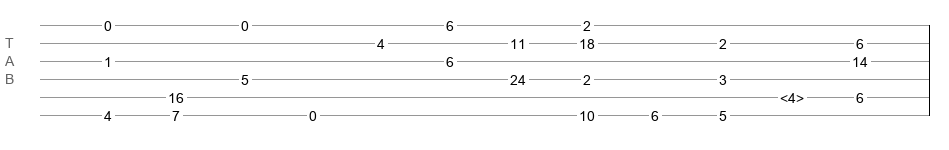0: (104, 18, 112, 28), (241, 18, 249, 28), (309, 108, 317, 118)
1: (104, 54, 112, 64)
10: (579, 108, 595, 118)
11: (510, 36, 526, 46)
14: (852, 54, 868, 64)
16: (168, 90, 184, 100)
18: (579, 36, 595, 46)
2: (583, 18, 591, 28), (583, 72, 591, 82), (719, 36, 727, 46)
24: (510, 72, 526, 82)
3: (719, 72, 727, 82)
4: (104, 108, 112, 118), (377, 36, 385, 46)
5: (241, 72, 249, 82), (719, 108, 727, 118)
6: (446, 54, 454, 64), (446, 18, 454, 28), (651, 108, 659, 118), (856, 90, 864, 100), (856, 36, 864, 46)
7: (172, 108, 180, 118)
harmonic: (780, 90, 804, 100)
